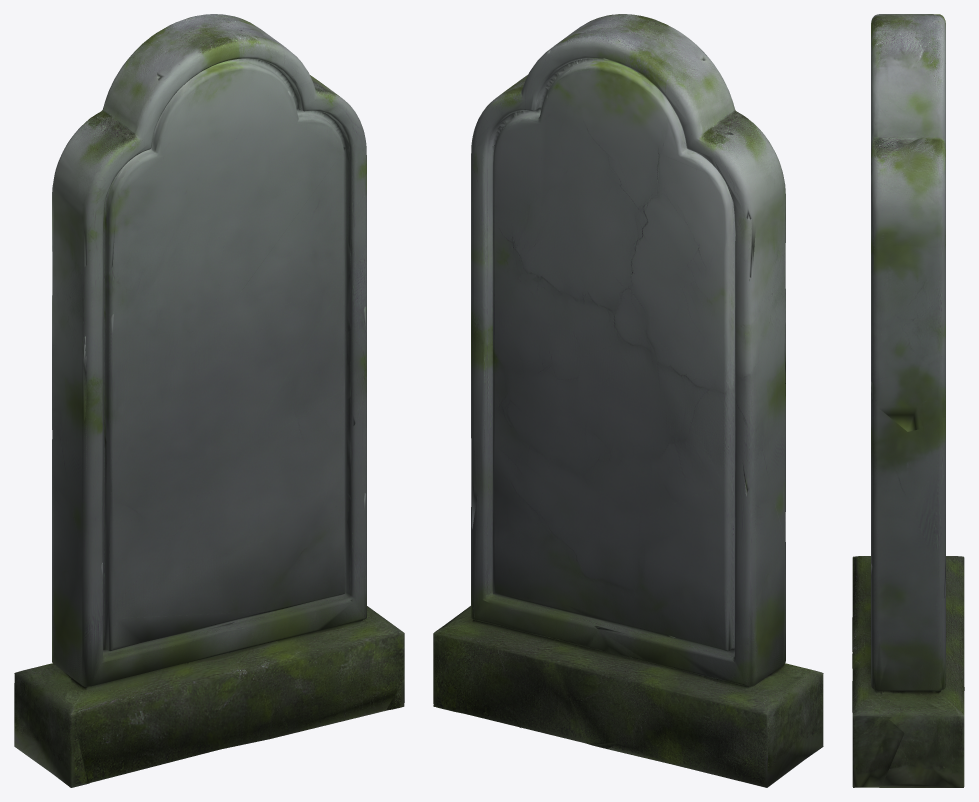
Rendered from monument_stone.glb.
The picture shows the model from 3 angles, left to right: view 1: azimuth 30°, elevation 25°; view 2: azimuth 150°, elevation 25°; view 3: azimuth 270°, elevation 25°; orthographic projection. The views are drawn at different scales.
Size of the model in its own units: 0.9578 by 1.91 by 0.2836.
Materials: 1 (1 with a texture image).
